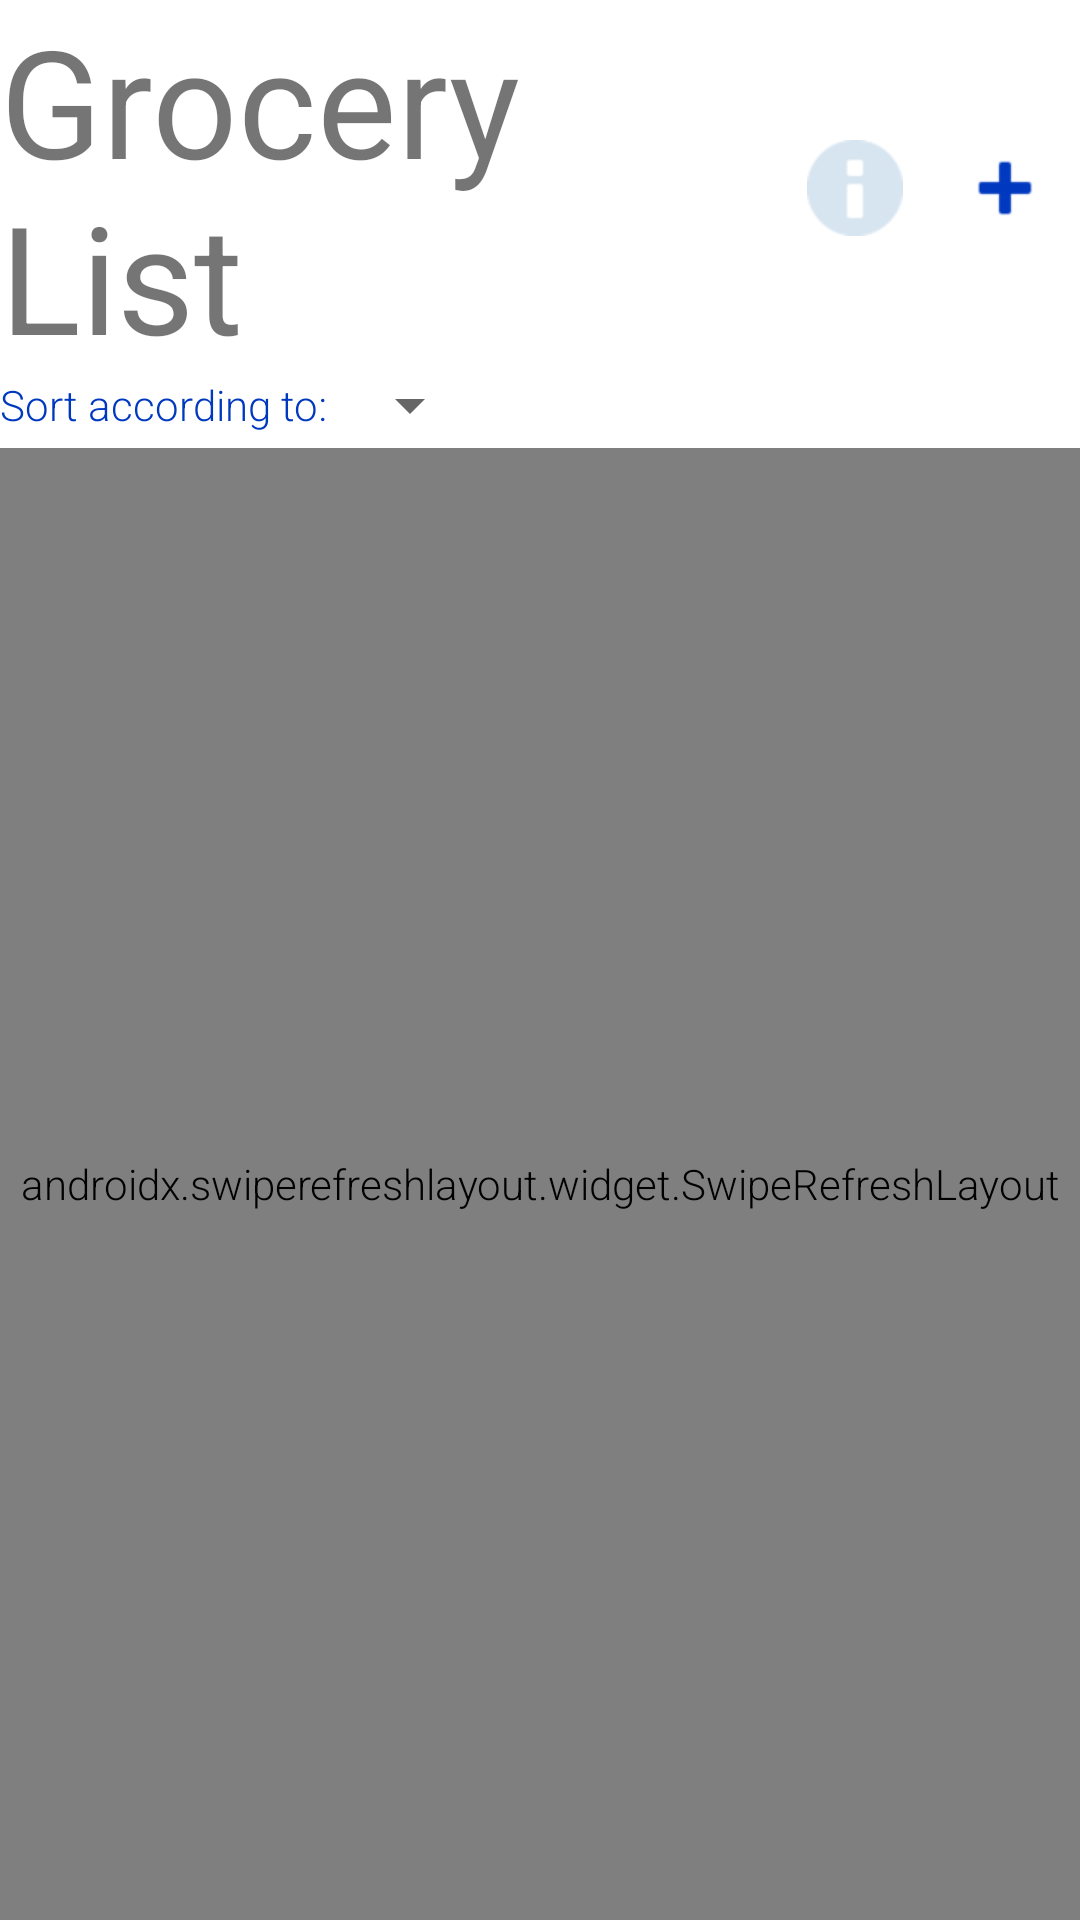

Icons on this 1080px x 1920px Android screen, each with the point to tap as (x=x, y=y):
add: (x=1005, y=188)
info: (x=855, y=188)
